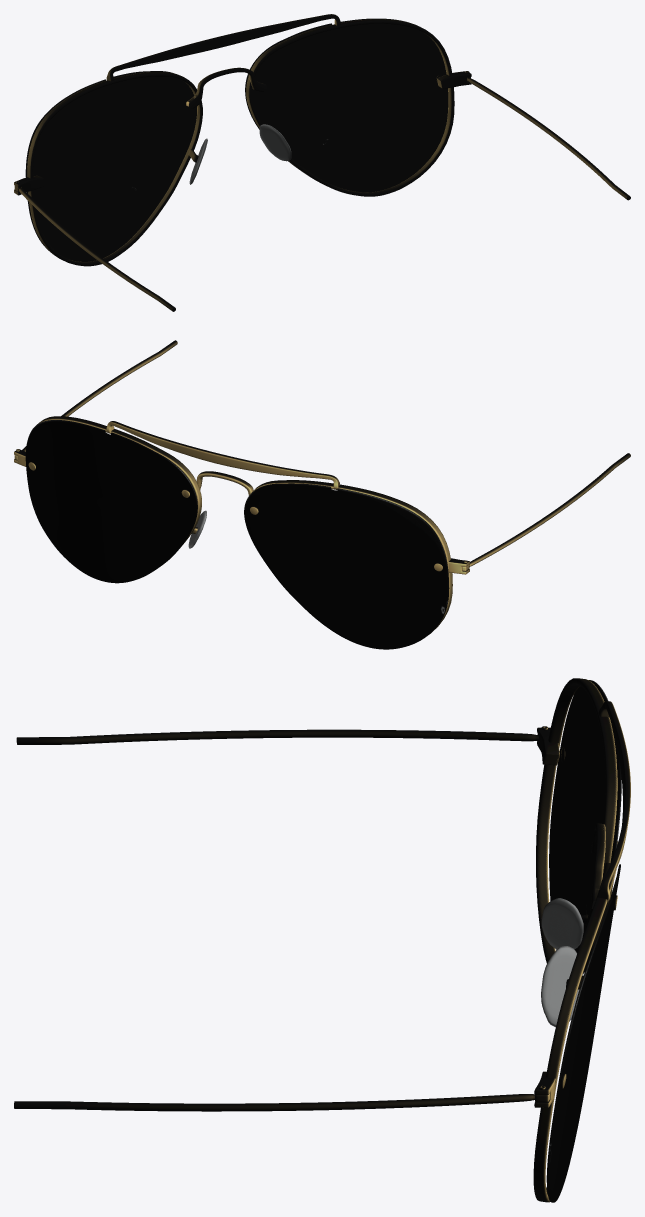
Rendered from teste gltf.glb.
3 views of the same model, one above another, from view 1: azimuth 30°, elevation 25°; view 2: azimuth 150°, elevation 25°; view 3: azimuth 270°, elevation 25° (orthographic). The views are drawn at different scales.
Parts seen in each view (by area): view 1: Cylinder002; view 2: Cylinder002; view 3: Cylinder002.
Boxes of the visible parts, <box> form: Cylinder002: <box>14,14,630,311</box>; Cylinder002: <box>14,340,630,649</box>; Cylinder002: <box>14,678,630,1202</box>.
Size of the model in its own units: 1.57 by 0.5656 by 1.08.
1 material, 1 textured.
